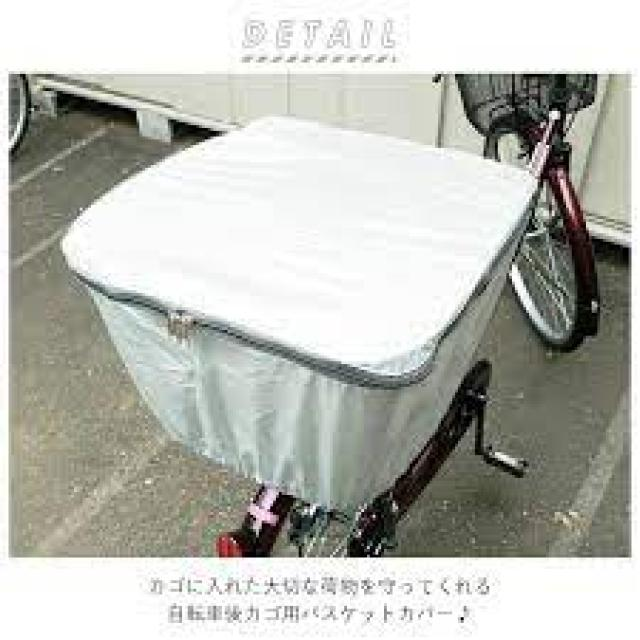basket: (61, 115, 536, 518)
